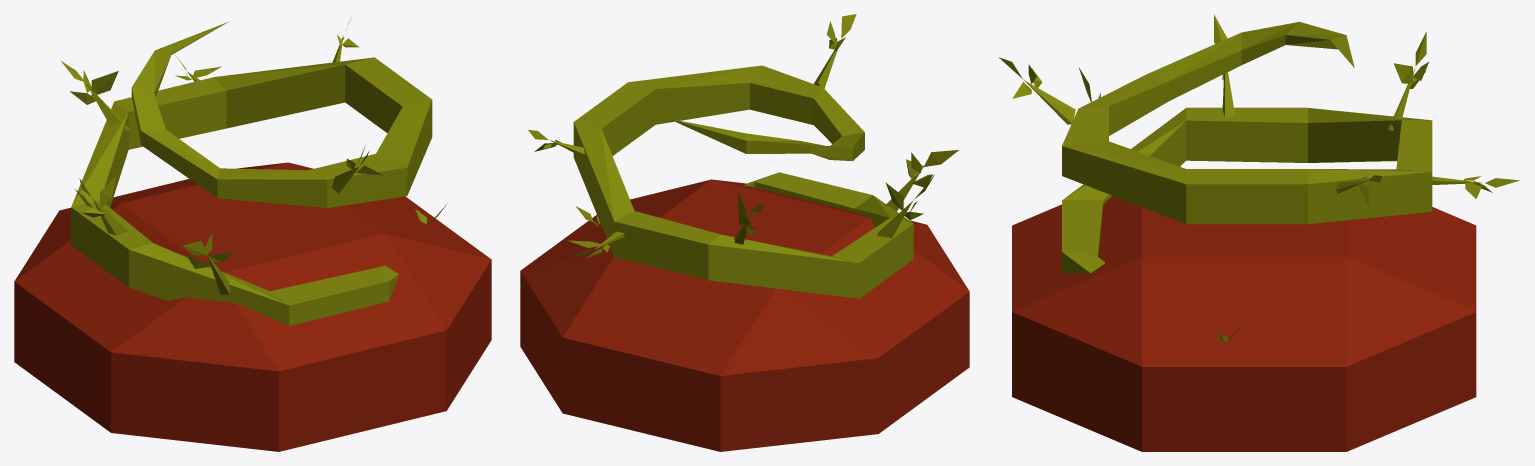
File: gfx_179.obj
The picture shows the model from 3 angles, left to right: view 1: azimuth 30°, elevation 25°; view 2: azimuth 150°, elevation 25°; view 3: azimuth 270°, elevation 25°; orthographic projection. The views are drawn at different scales.
Bounding box in the file's own units: 1.31 × 0.9609 × 1.48.
